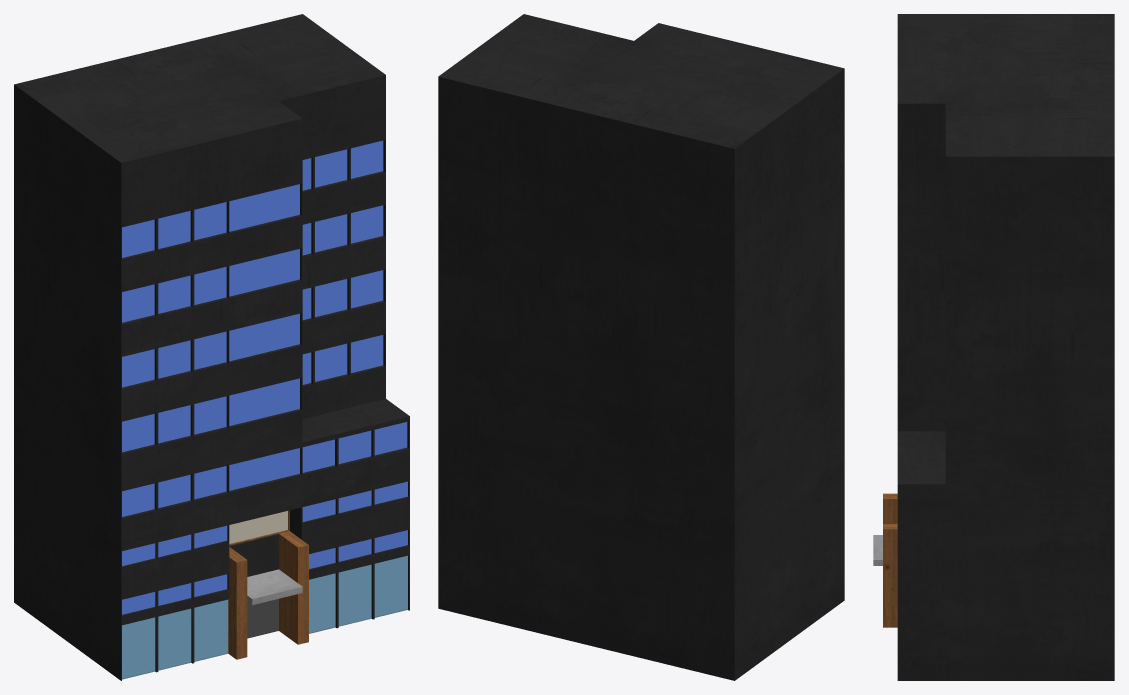
The model's file is Building_06_Texture.fbx.
The picture shows the model from 3 angles, left to right: view 1: azimuth 30°, elevation 25°; view 2: azimuth 150°, elevation 25°; view 3: azimuth 270°, elevation 25°; orthographic projection. The views are drawn at different scales.
Parts seen in each view (by area): view 1: Buil_06; view 2: Buil_06; view 3: Buil_06.
Boxes of the visible parts, <box> form: Buil_06: <box>14,14,409,680</box>; Buil_06: <box>438,14,844,680</box>; Buil_06: <box>873,14,1114,680</box>.
Bounding box in the file's own units: 2520 × 4320 × 1800.
